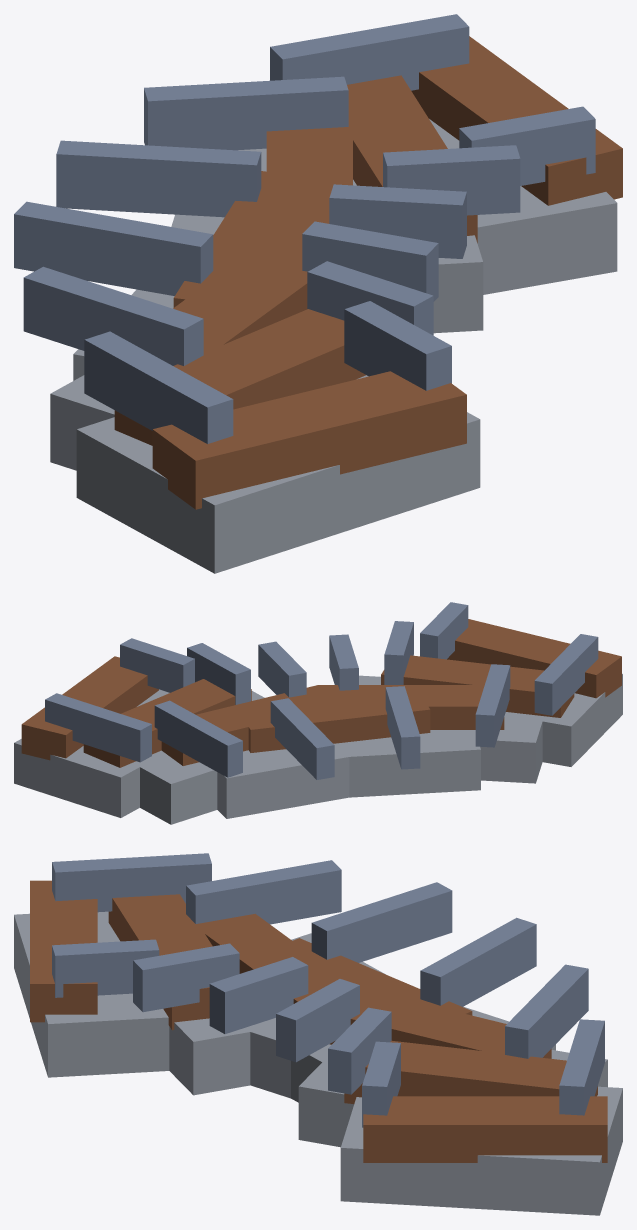
File: SM_Rail_Curve.fbx
The picture shows the model from 3 angles, top to bottom: view 1: azimuth 30°, elevation 25°; view 2: azimuth 150°, elevation 25°; view 3: azimuth 270°, elevation 25°; orthographic projection. The views are drawn at different scales.
Parts seen in each view (by area): view 1: SM_Rail_Curve; view 2: SM_Rail_Curve; view 3: SM_Rail_Curve.
Part boxes in pixels (bbox=[...]): SM_Rail_Curve: bbox=[14, 14, 622, 573]; SM_Rail_Curve: bbox=[14, 602, 622, 824]; SM_Rail_Curve: bbox=[14, 853, 622, 1215].
Bounding box in the file's own units: 1.44 × 0.295 × 1.44.
